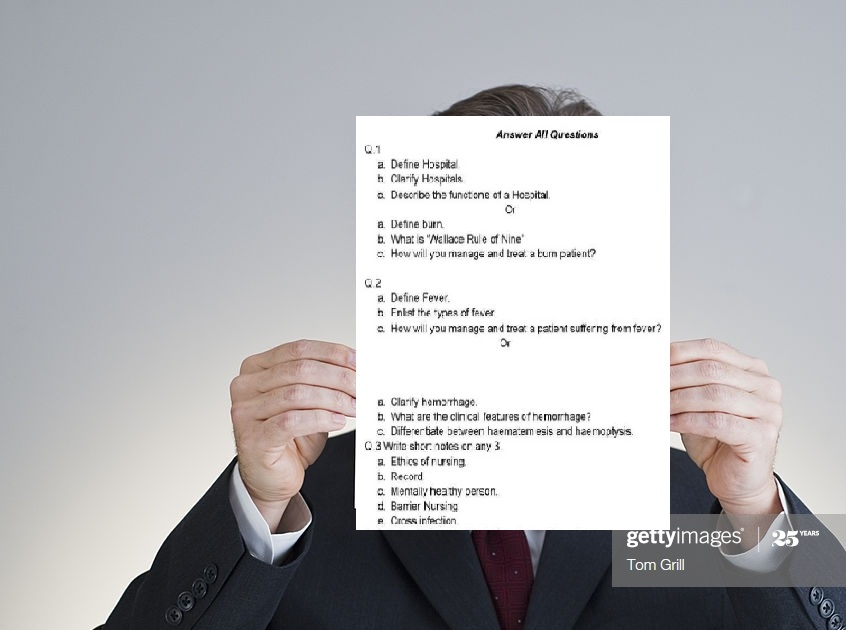questionPaper: (354, 115, 671, 530)
